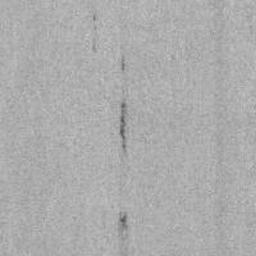Inclusion: (118, 101, 129, 155), (115, 210, 131, 241), (120, 55, 128, 73), (91, 42, 99, 55), (92, 13, 97, 24)
